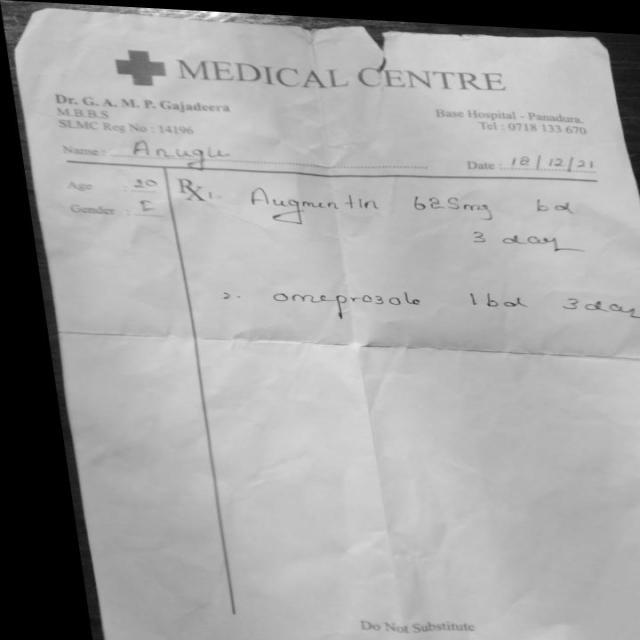Prescription: (233, 175, 584, 247), (261, 280, 640, 324)
